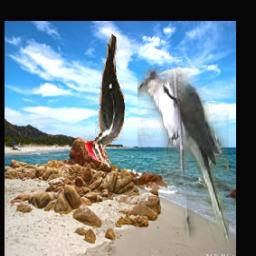Cuckoo: (138, 61, 230, 244)
Woodpecker: (83, 34, 125, 170)
